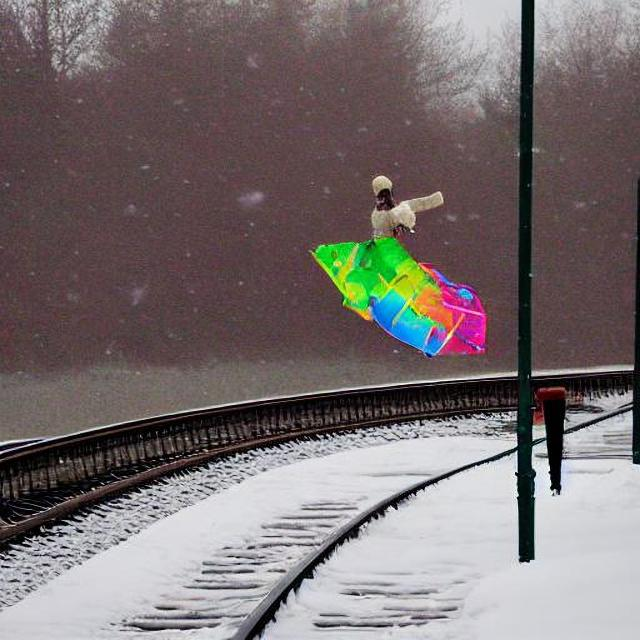floating object: (282, 218, 501, 370)
